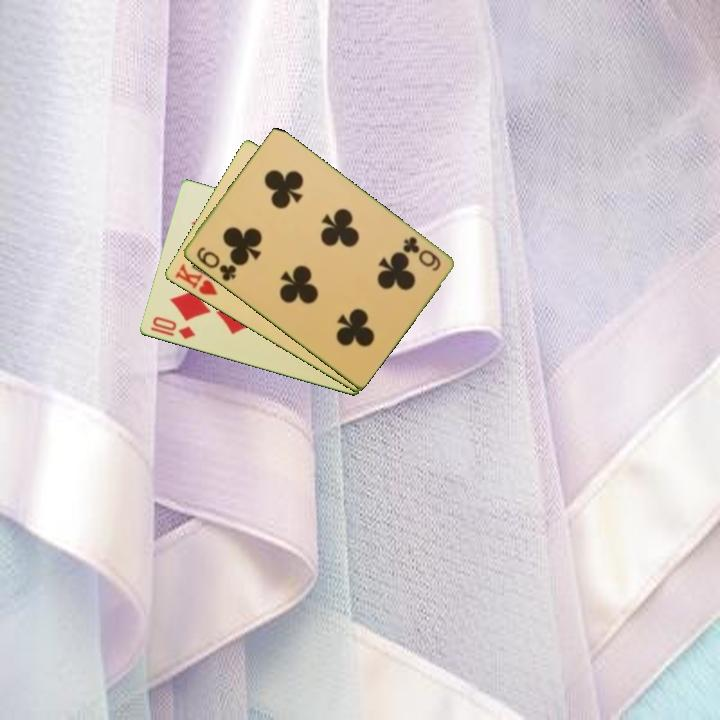10d: (147, 313, 198, 343)
6c: (193, 243, 239, 284), (399, 233, 443, 274)
Kh: (171, 260, 228, 298)
